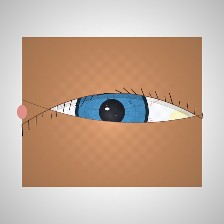pinguecula_lesion: (159, 100, 200, 133)
